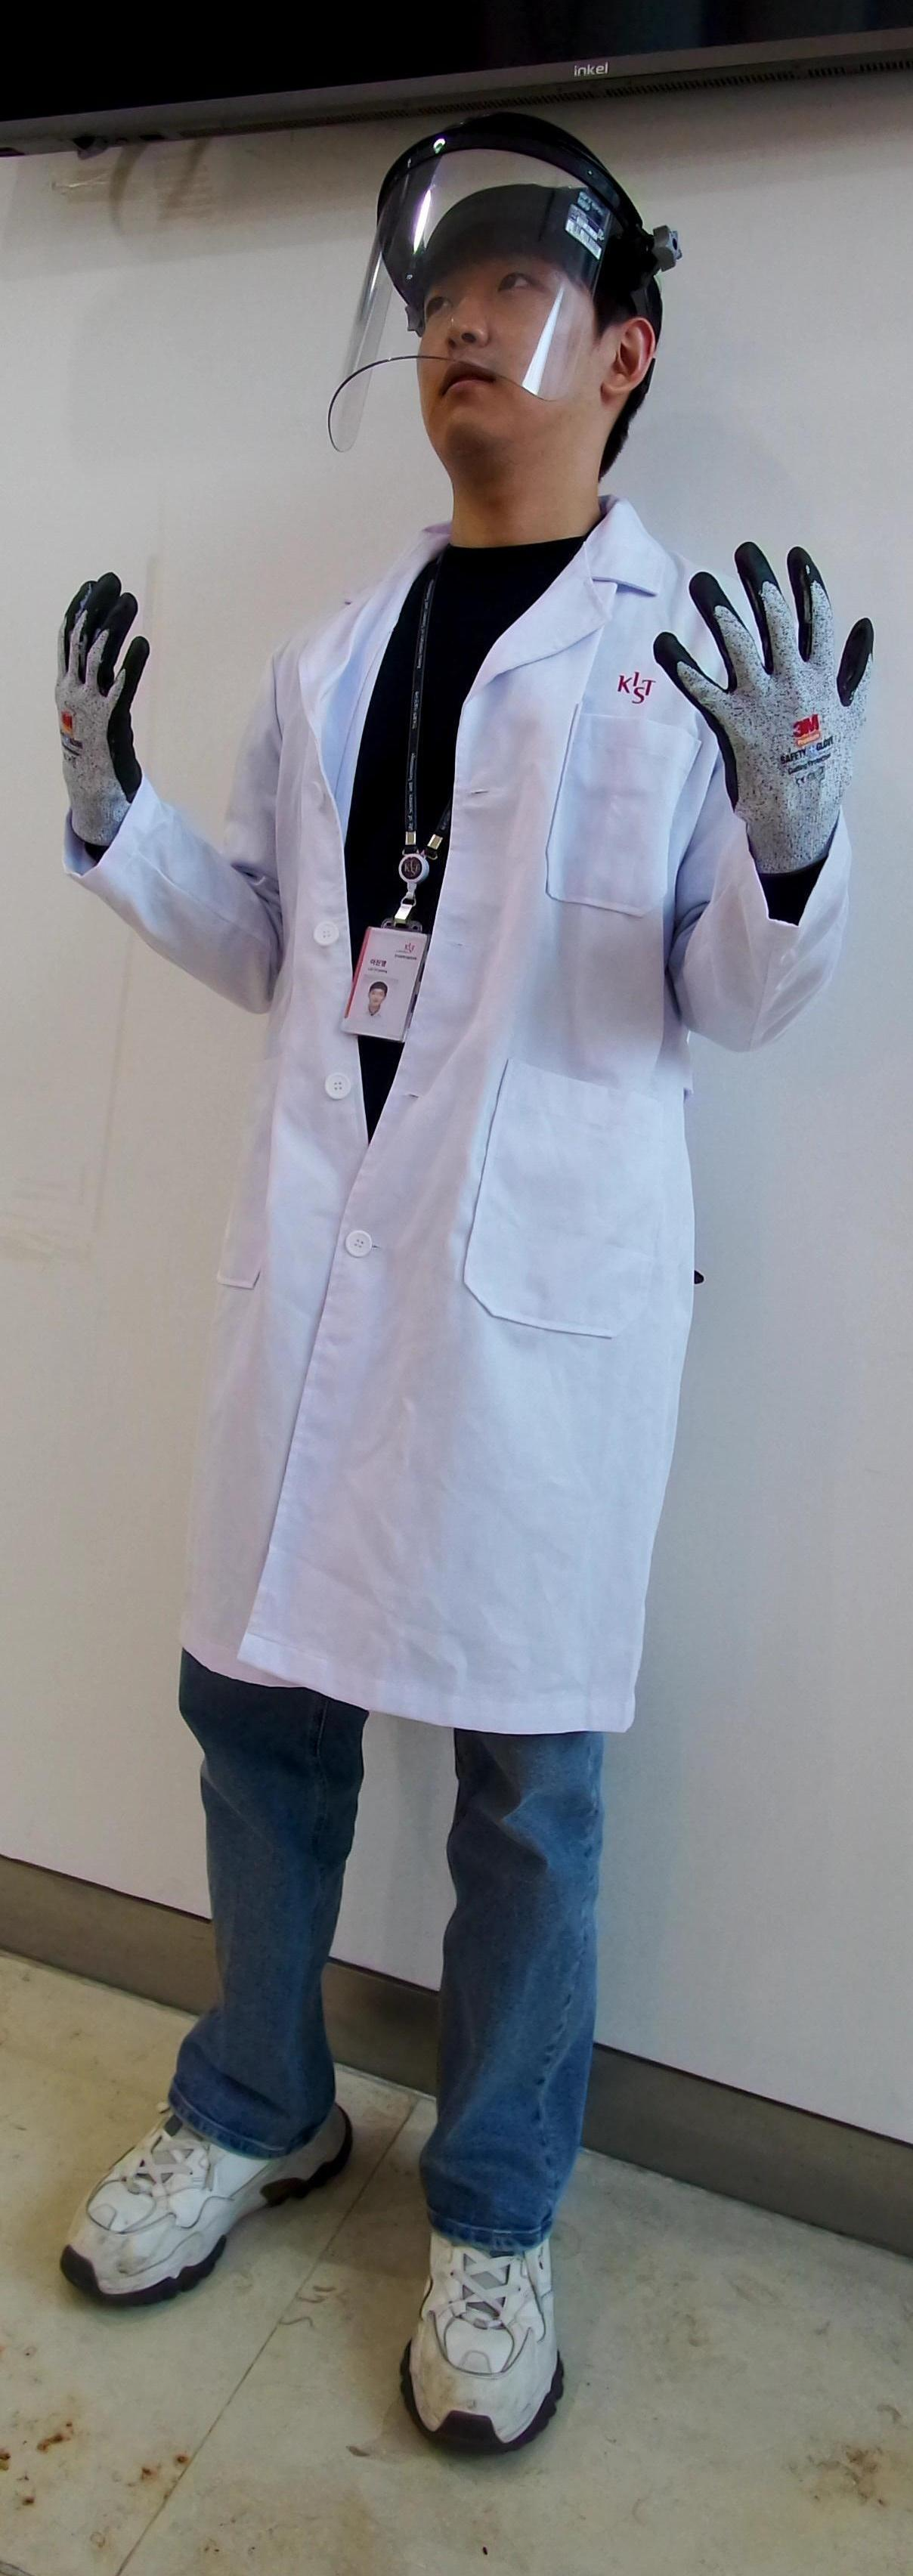lab_coat: (209, 554, 652, 1735)
